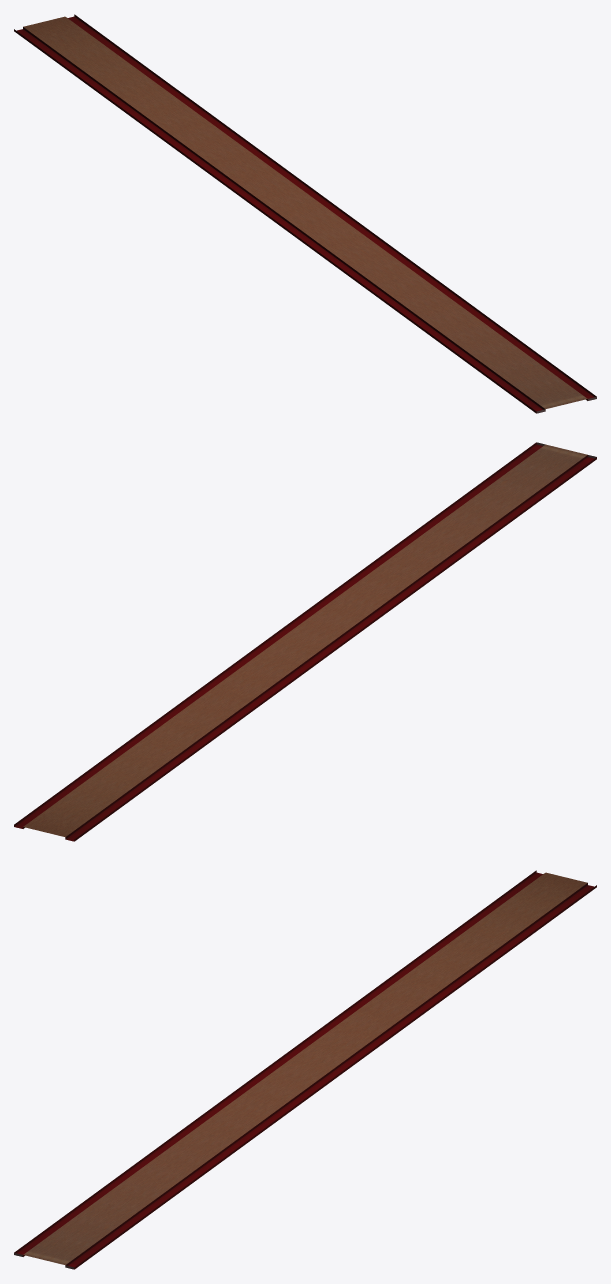
File: floor.fbx
3 views of the same model, one above another, from view 1: azimuth 30°, elevation 25°; view 2: azimuth 150°, elevation 25°; view 3: azimuth 330°, elevation 25° (orthographic).
Parts seen in each view (by area): view 1: floor; view 2: floor; view 3: floor.
Part boxes in pixels (box(x1,y1,x2,y2)): floor: box(14, 14, 596, 413); floor: box(14, 442, 596, 841); floor: box(14, 870, 596, 1269).
Bounding box in the file's own units: 15.28 × 0.5398 × 229.
Materials: 1 (1 with a texture image).
